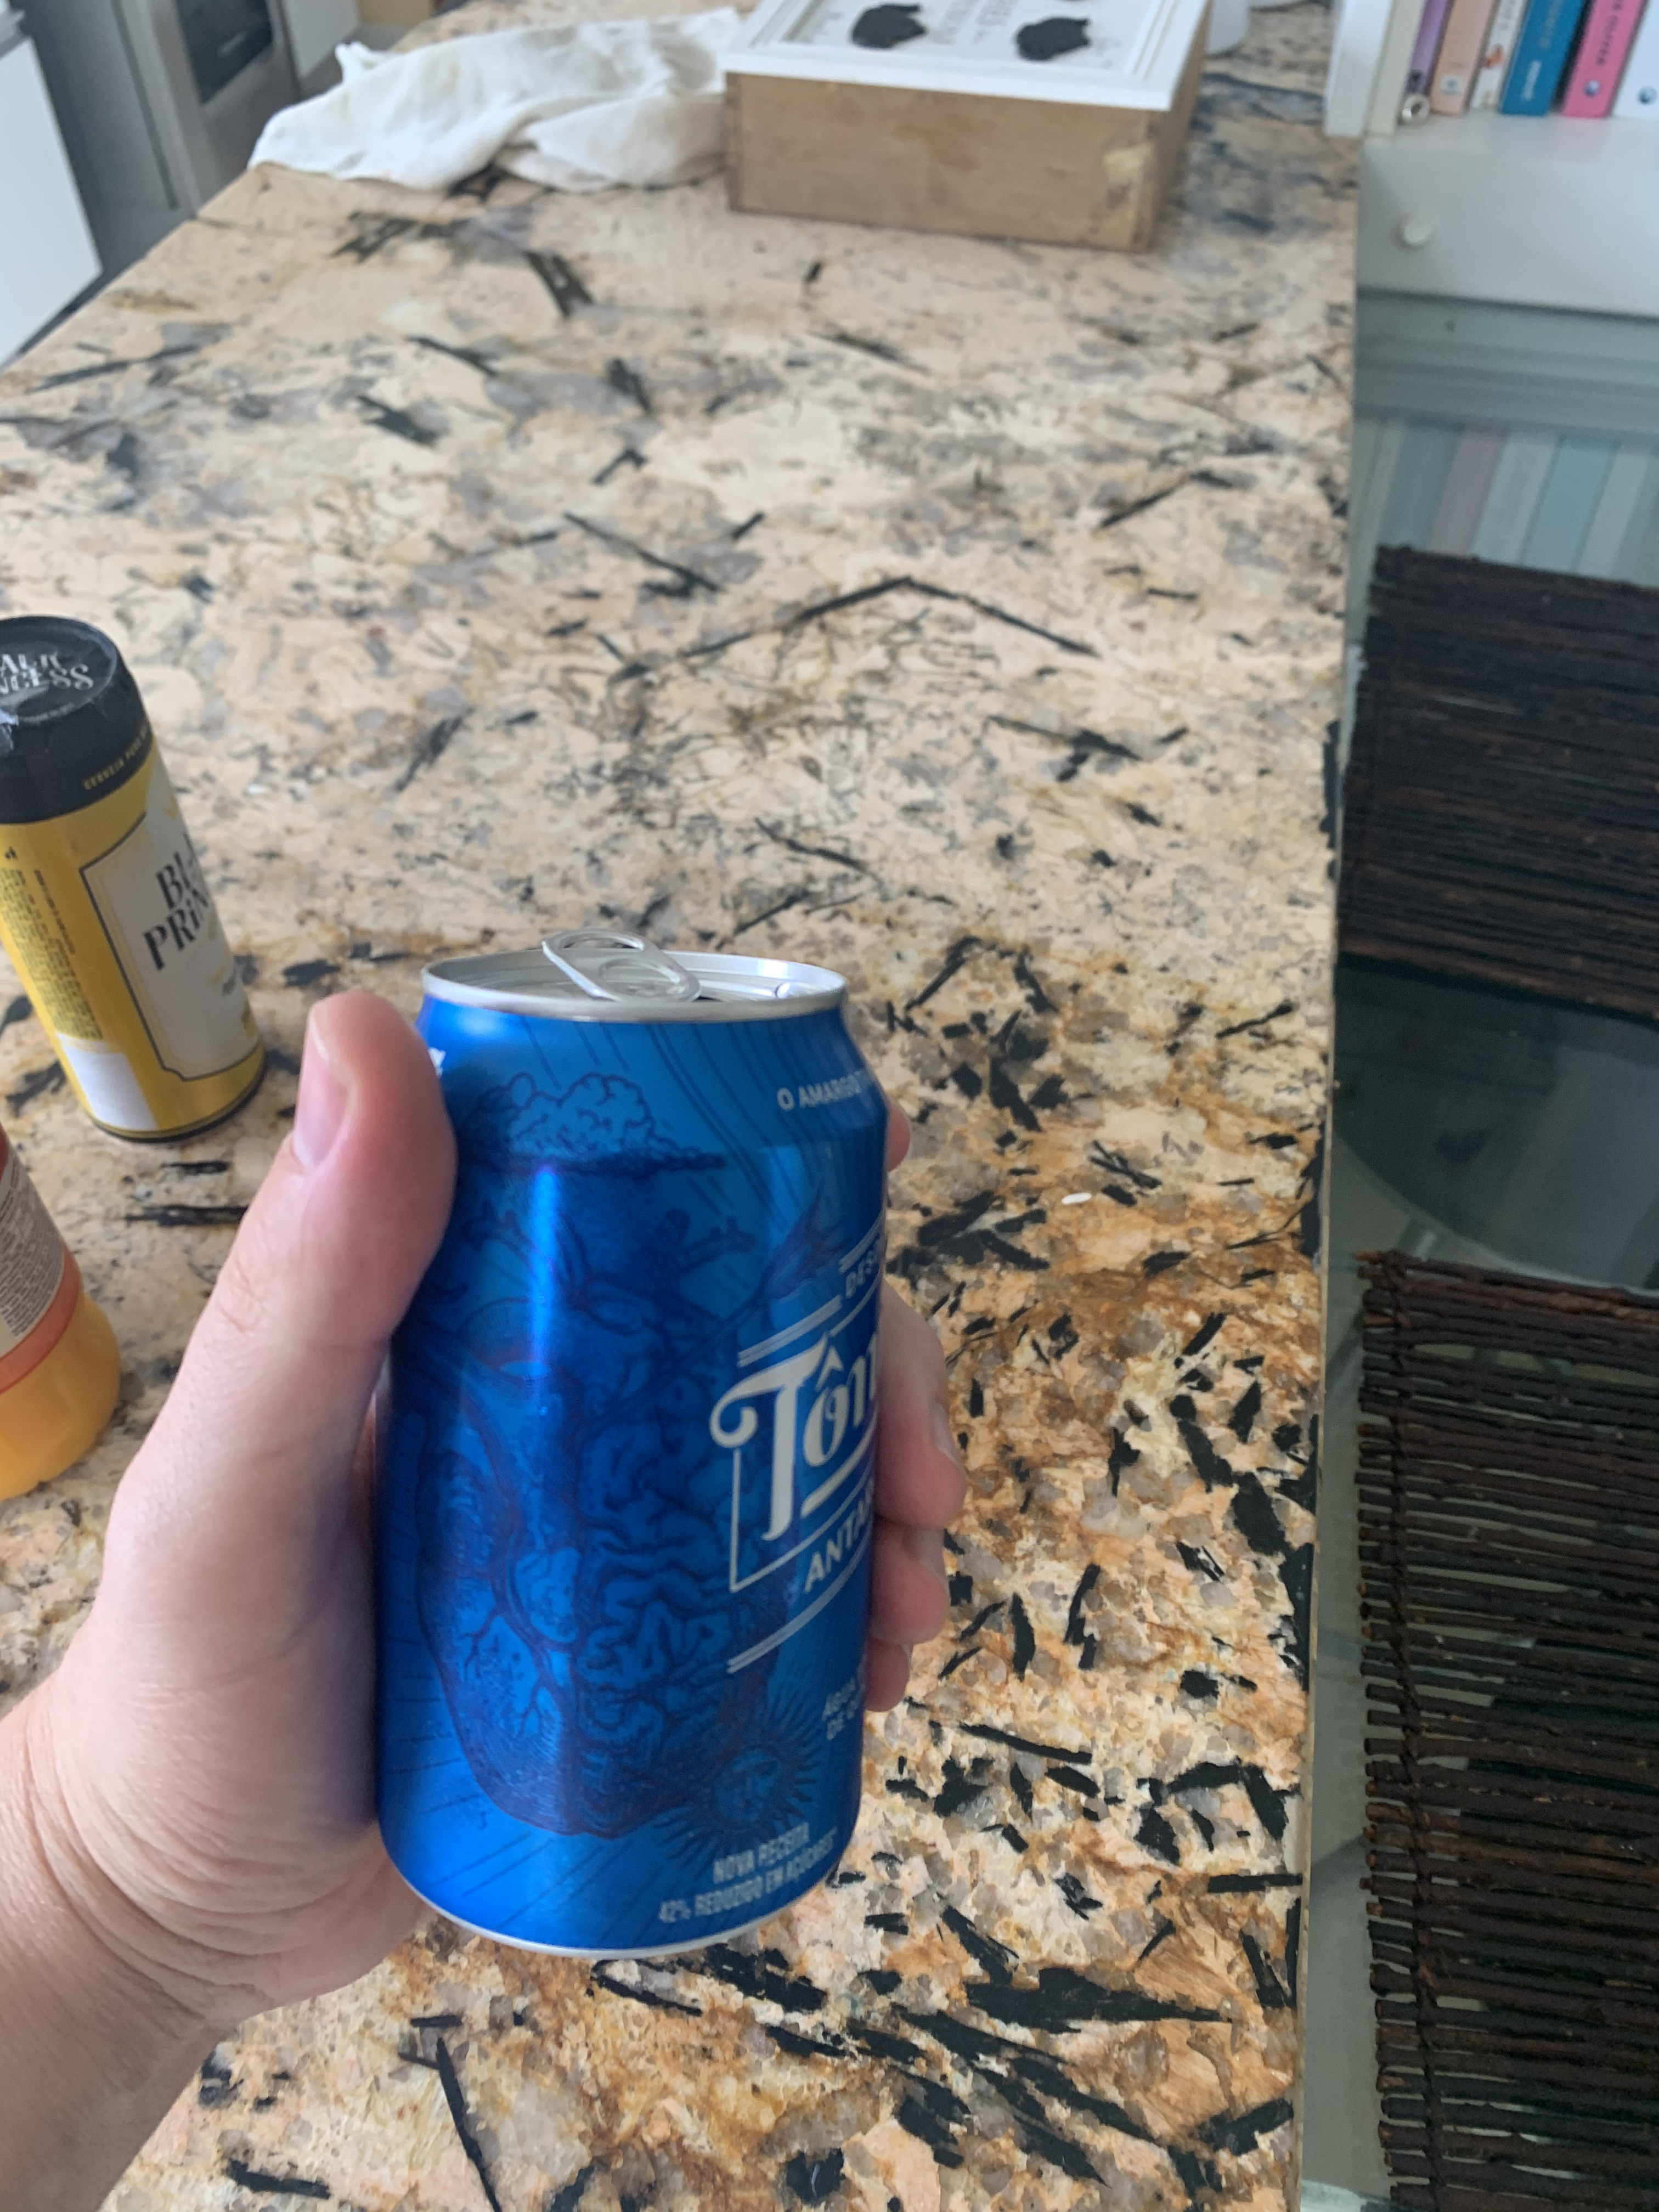blackprincess: (0, 570, 286, 1205)
tonica: (368, 928, 918, 1975)
